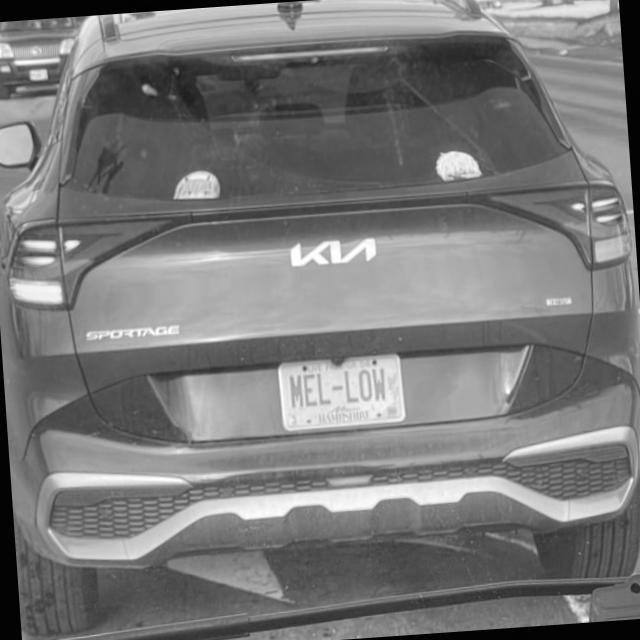LicensePlate: (275, 352, 408, 432)
